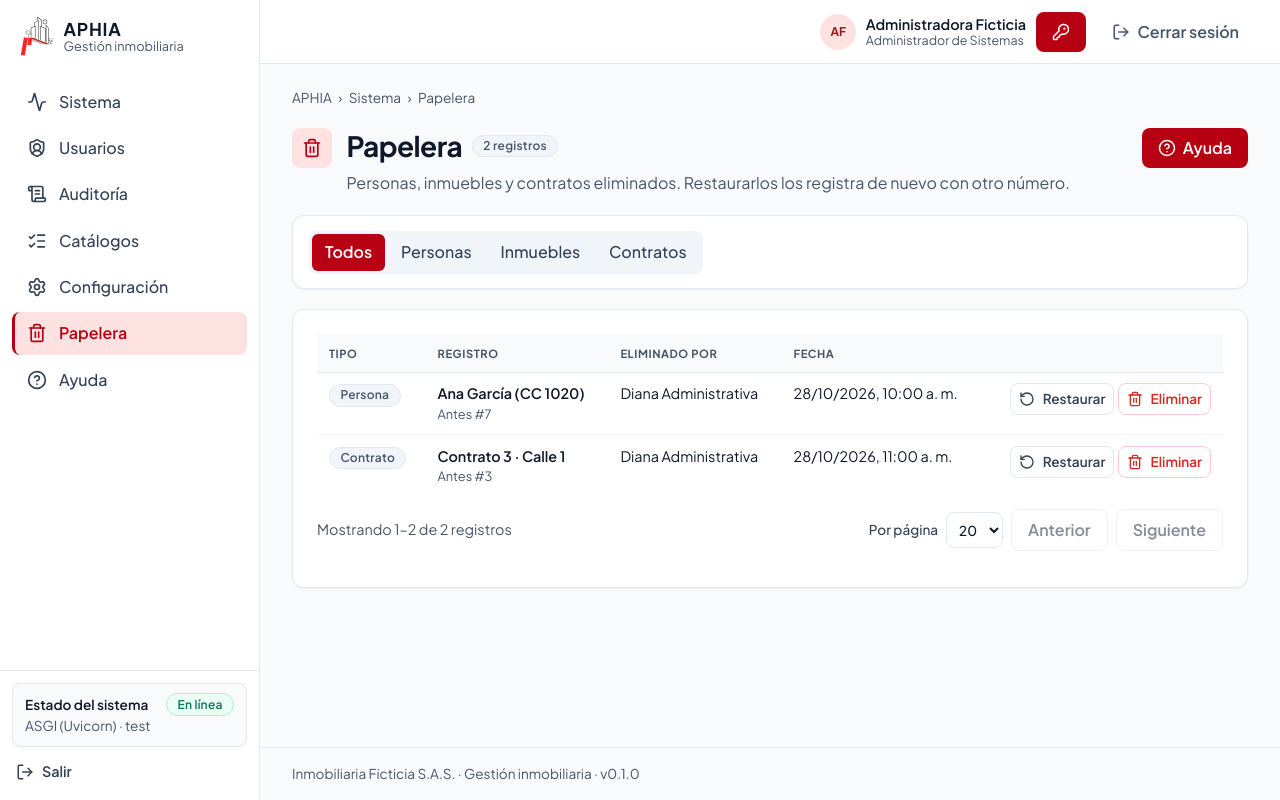
Test: PapeleraPage › restaura un registro y elimina otro definitivamente
Double-click the button with aria-label "Restaurar Ana García (CC 1020)" at (1062, 399), box [1010,383,1114,415]
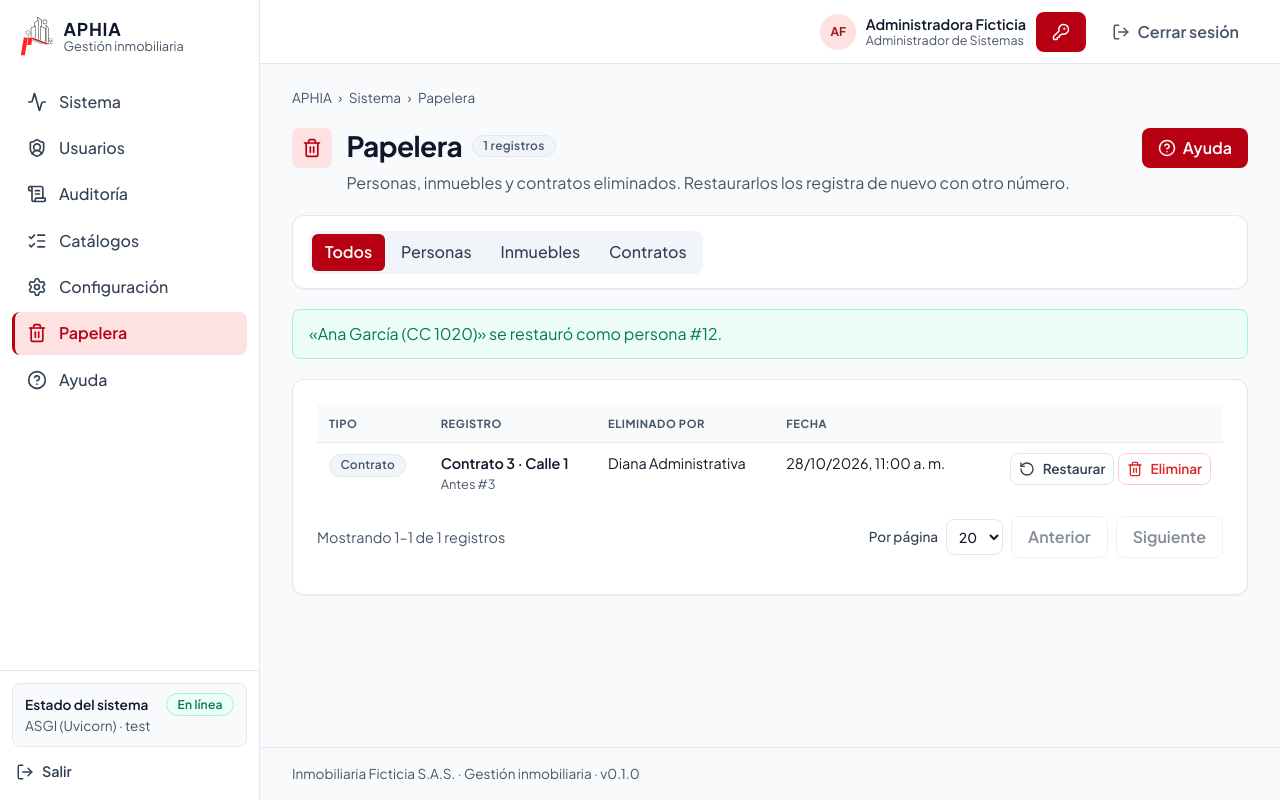
Check: the message shows "se restauró como persona #12", box [309,323,722,344]
Click the button with aria-label "Eliminar definitivamente Contrato 3 · Calle 1" at (1165, 469), box [1118,453,1211,485]
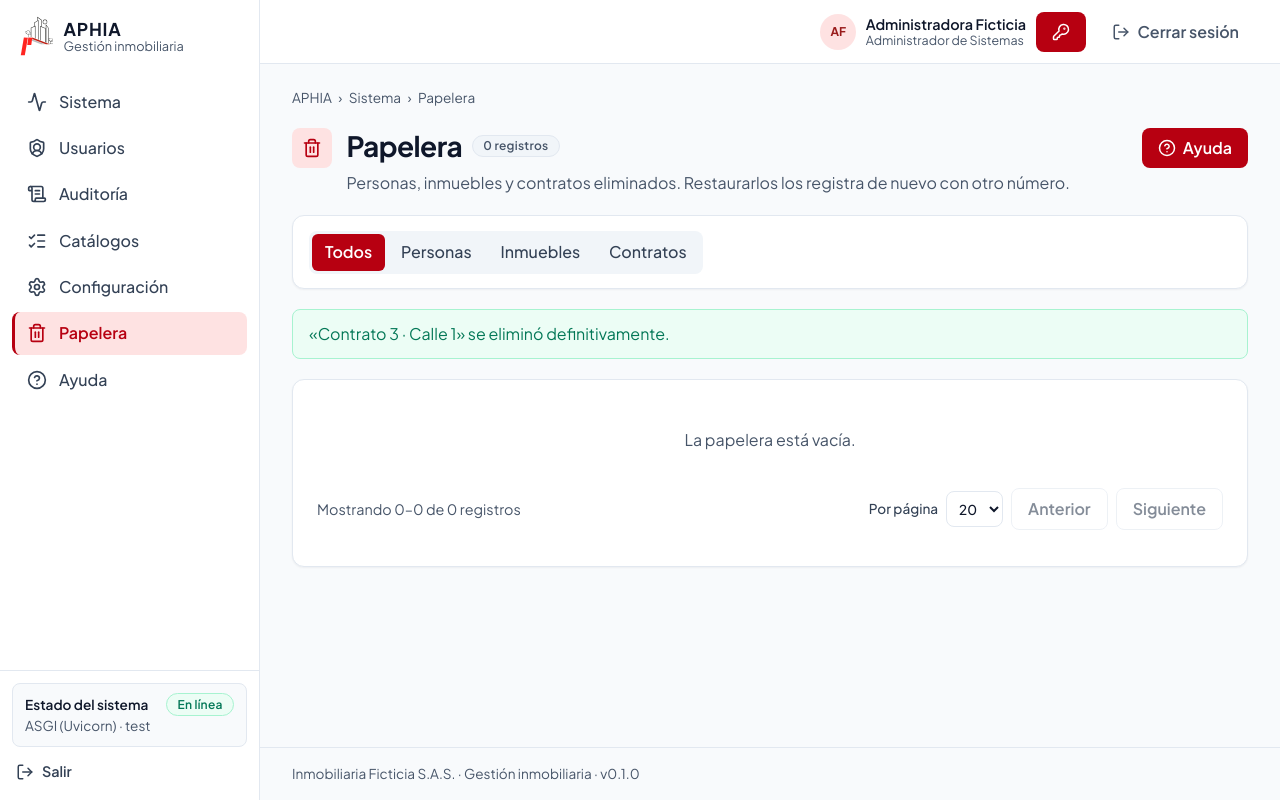
Check: the text "La papelera está vacía." is shown, box [684,429,856,450]
